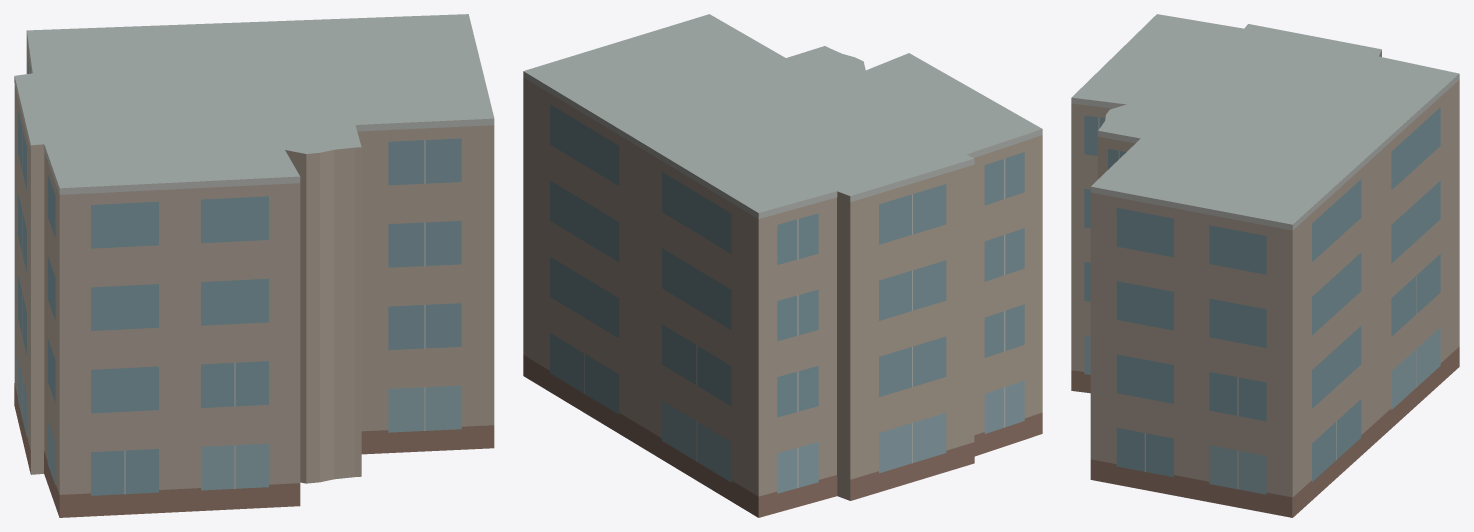
The model's file is survey-upis-32521924.glb.
3 renders of one model, left to right at view 1: azimuth 30°, elevation 25°; view 2: azimuth 150°, elevation 25°; view 3: azimuth 270°, elevation 25°, orthographic. The views are drawn at different scales.
Visible parts, largest first — view 1: survey-upis-32521924.tmp; view 2: survey-upis-32521924.tmp; view 3: survey-upis-32521924.tmp.
Part boxes in pixels (x1,y1,x2,y2): survey-upis-32521924.tmp: [14, 14, 494, 517]; survey-upis-32521924.tmp: [523, 14, 1042, 517]; survey-upis-32521924.tmp: [1071, 14, 1459, 517].
Bounding box in the file's own units: 18.81 × 12.2 × 14.65.
